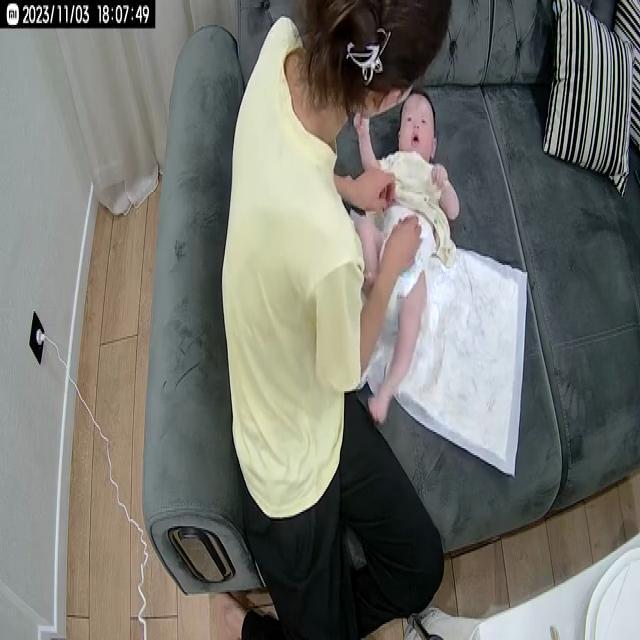baby: (348, 90, 462, 431)
